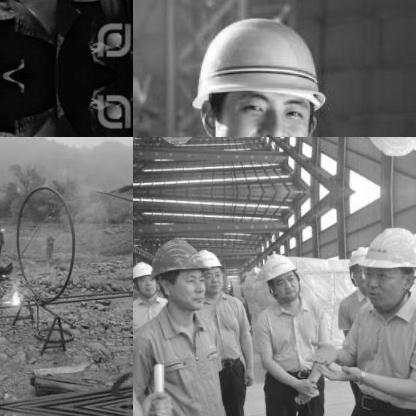Helmet: (171, 1, 341, 136), (148, 235, 207, 313), (358, 224, 415, 302), (256, 249, 302, 303), (194, 245, 226, 297), (349, 242, 374, 296), (357, 137, 415, 157), (133, 258, 158, 295), (148, 137, 210, 147)
